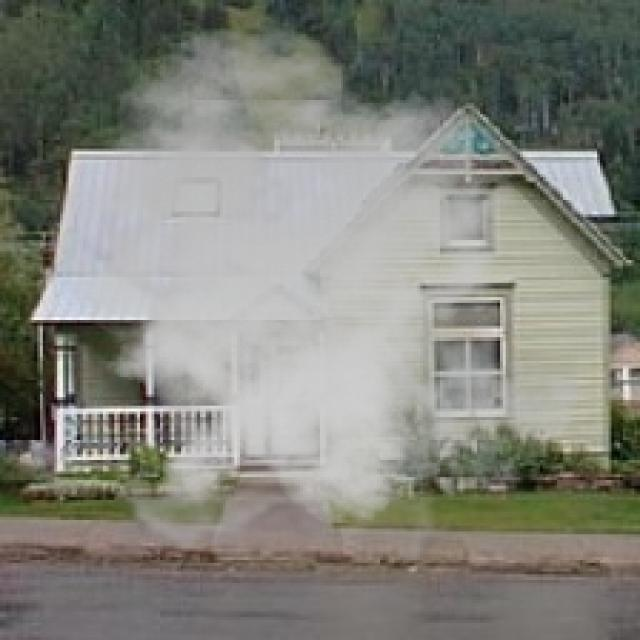smoke: (26, 26, 577, 560)
